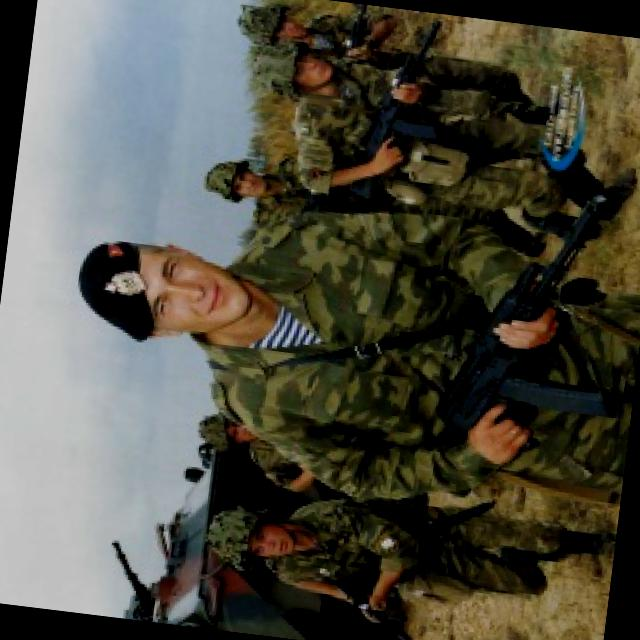long weapon: (395, 168, 635, 481), (335, 13, 462, 217), (318, 565, 427, 640)
